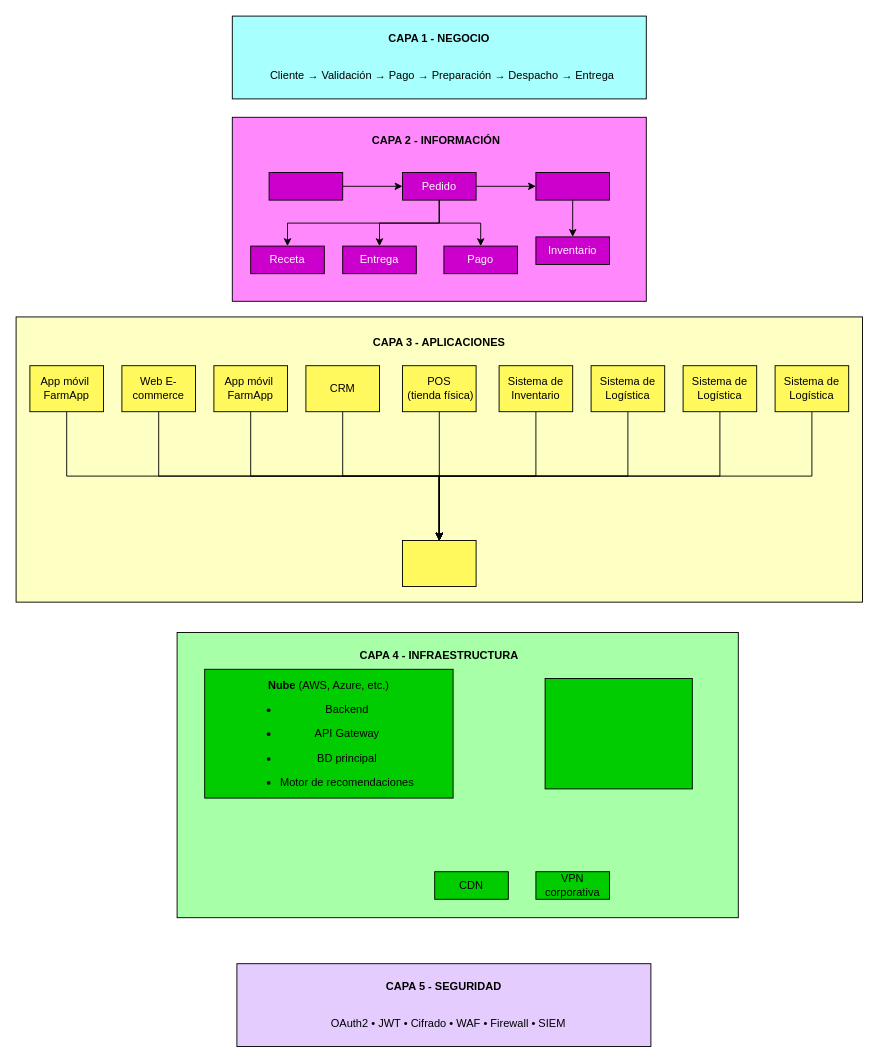
This 879x1063 diagram has some shape labels left out. Here are the shapes that lost their labels. From the top down, the centre of each, then its label:
At [305,186]: "Cliente".
At [572,186]: "Producto".
At [439,563]: "API Gateway".
At [618,733]: "Tiendas físicas POS BD local Sincronización".
